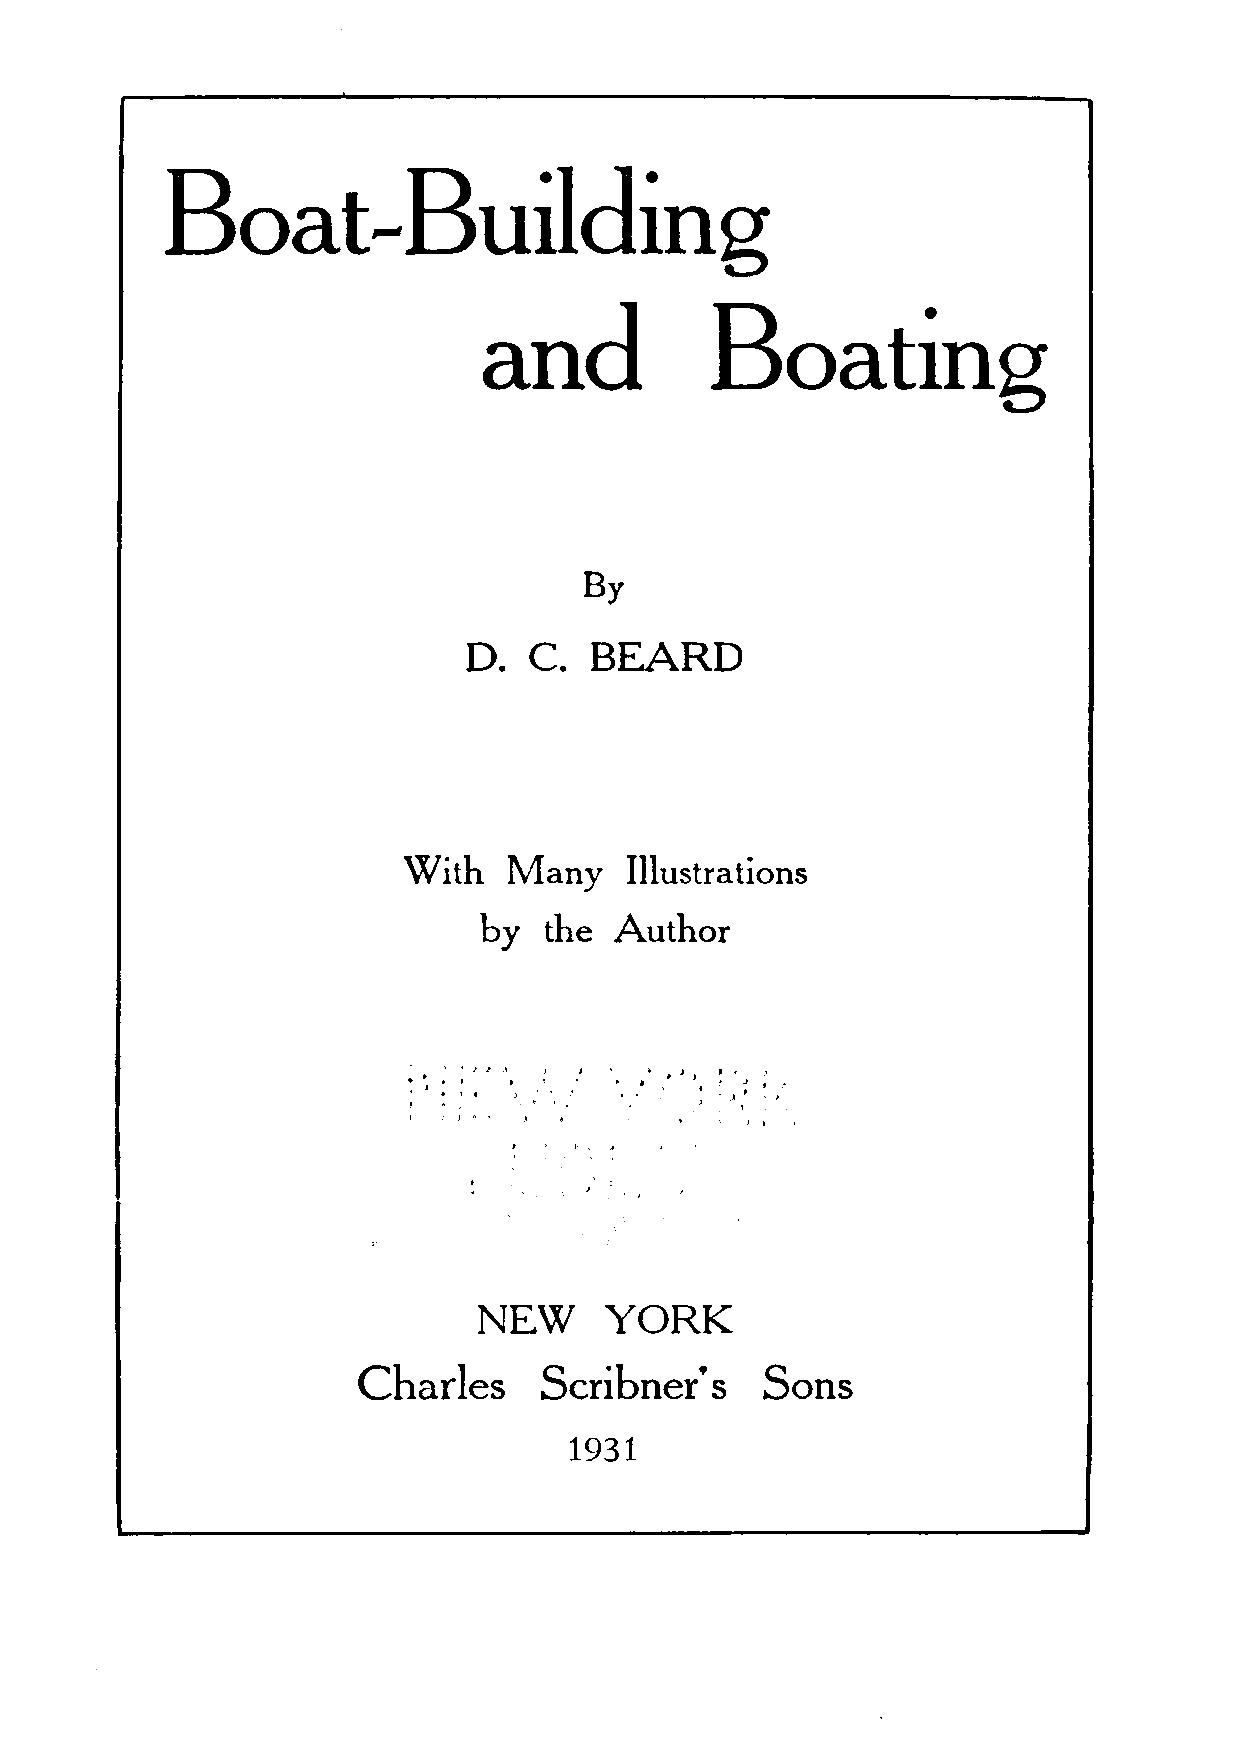author: (463, 568, 745, 674)
title: (160, 164, 1049, 416)
